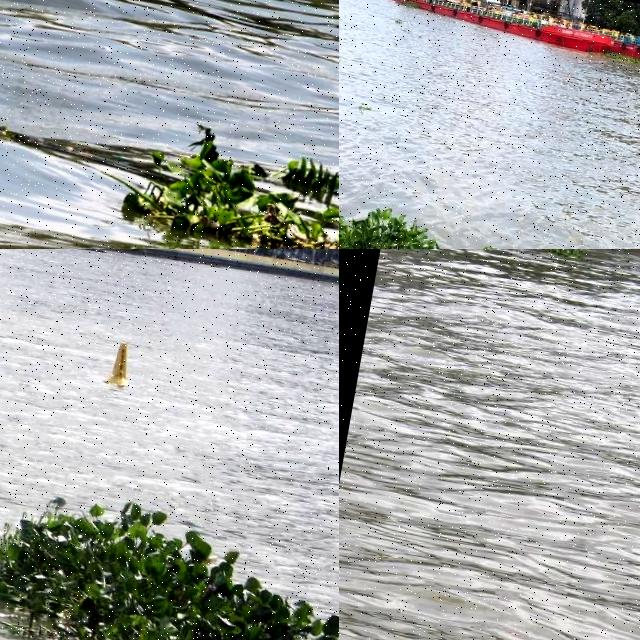water-hyacinth: (1, 496, 339, 640), (125, 123, 340, 250), (340, 203, 443, 250)
